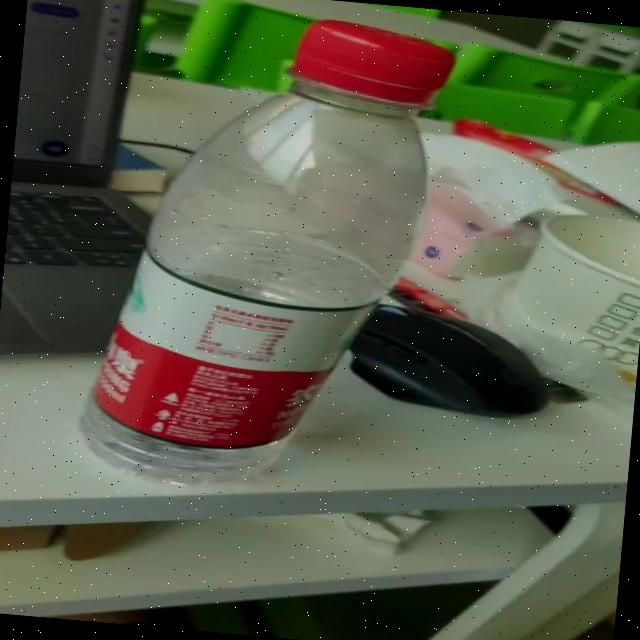bottle: (69, 0, 454, 502)
cap: (291, 19, 454, 116)
label: (88, 256, 380, 455)
